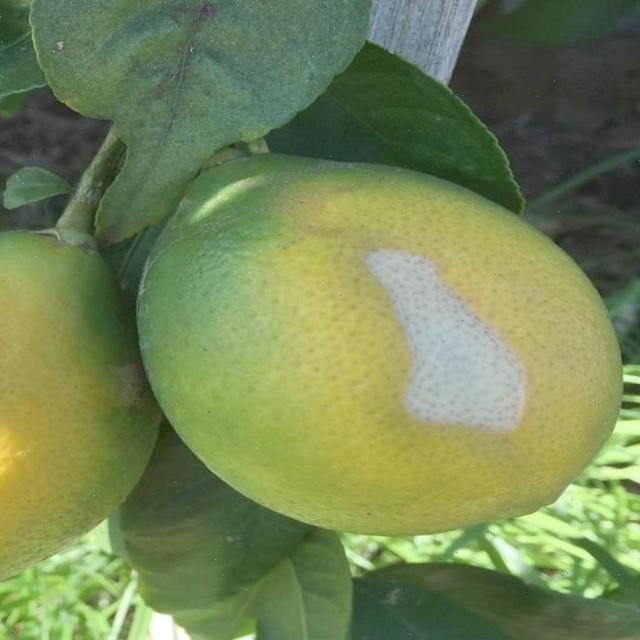Sunscald Fruit: (229, 160, 352, 293)
